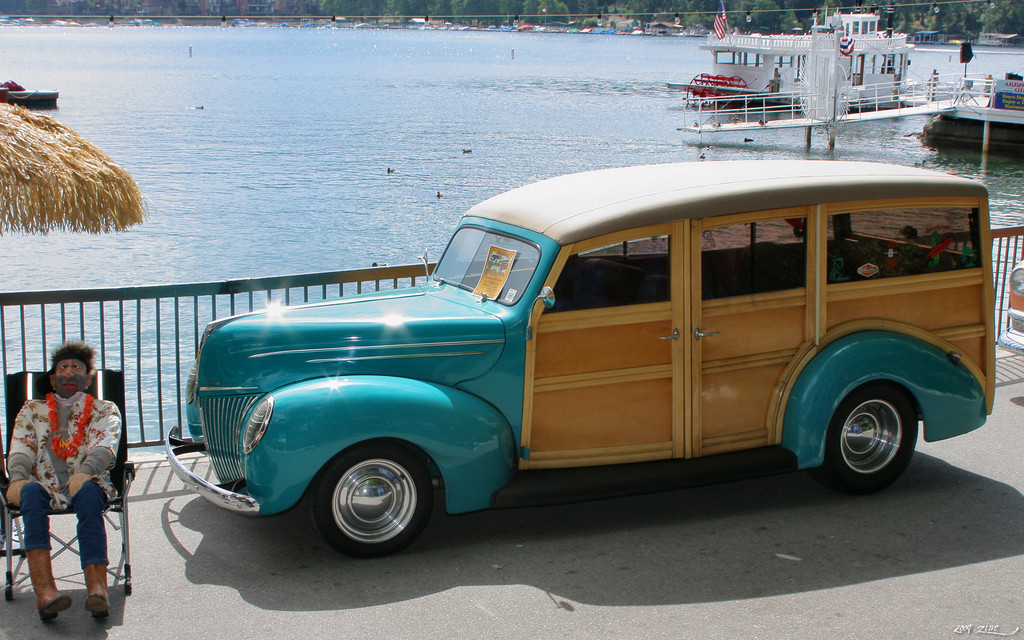cars: (165, 161, 999, 559), (1001, 262, 1023, 358)
